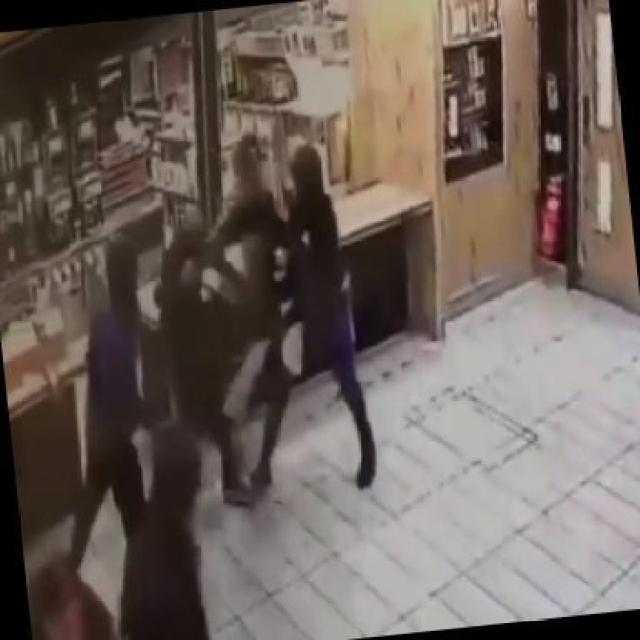fight: (148, 123, 385, 510)
non-fight: (45, 234, 158, 582)
